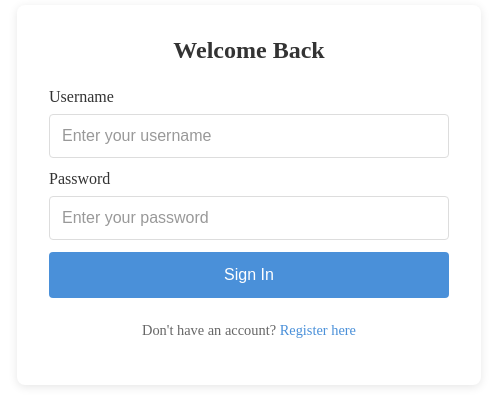
LoginForm › Form Submission › shows loading state during submission
Type "testuser" into the field labelled "Username" at (249, 136), box [49, 114, 449, 158]
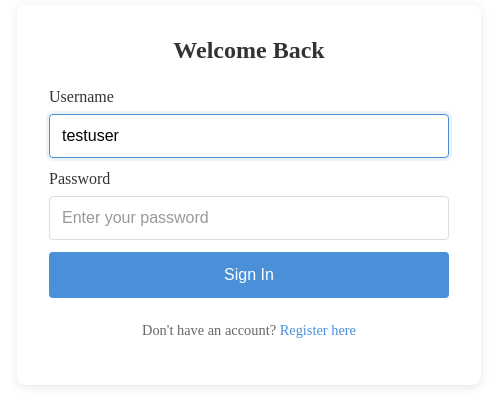
Type "password123" into the password field labelled "Password" at (249, 218), box [49, 196, 449, 240]
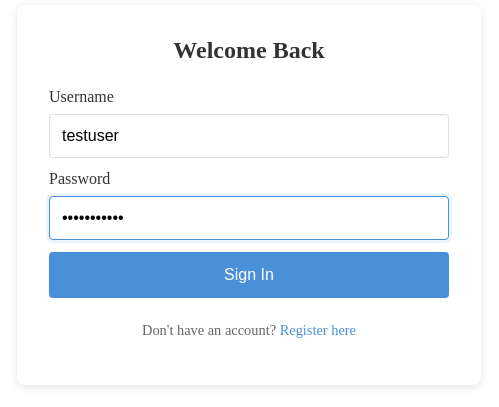
Click the button "Sign In" at (249, 275), box [49, 252, 449, 298]
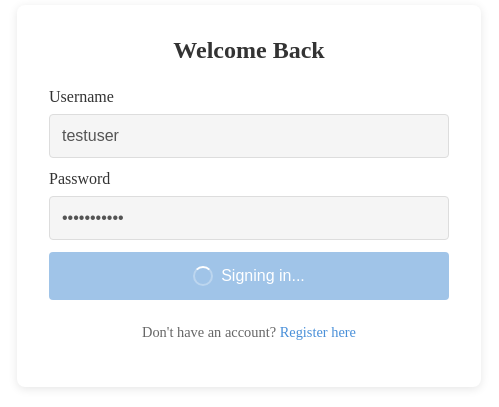
Now the text "Signing in..." is shown, box [221, 267, 305, 285]
Now the field labelled "Username" is disabled, box [49, 114, 449, 158]
Now the password field labelled "Password" is disabled, box [49, 196, 449, 240]
